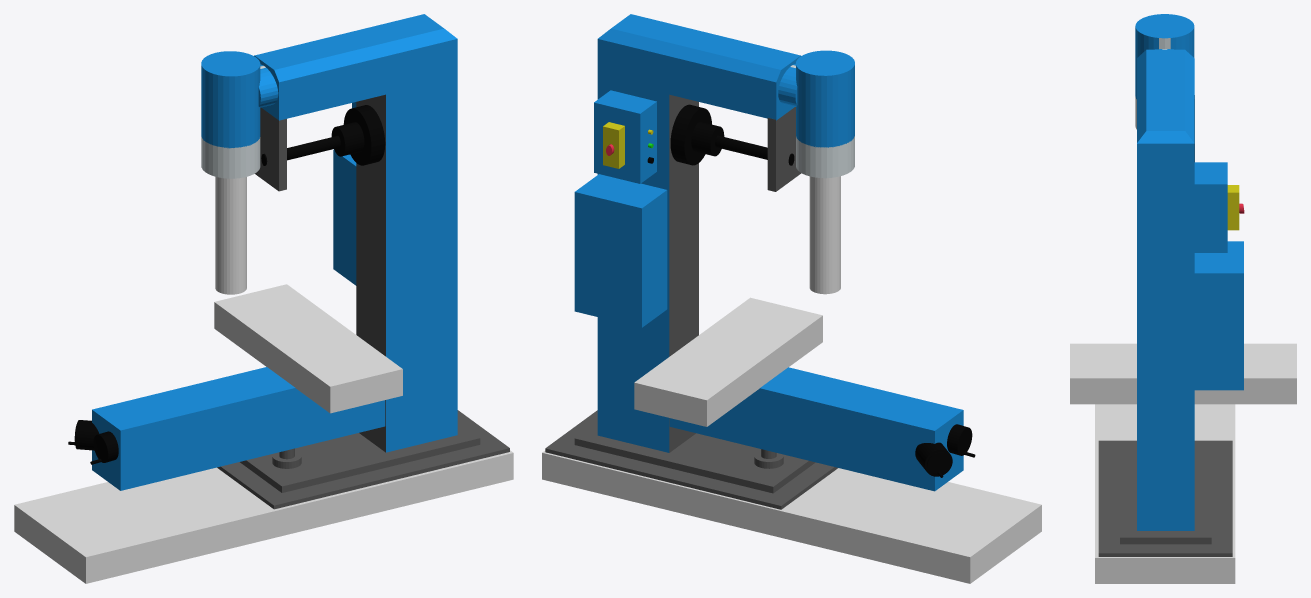
3 views of the same model, side by side, from view 1: azimuth 30°, elevation 25°; view 2: azimuth 150°, elevation 25°; view 3: azimuth 270°, elevation 25° (orthographic). The views are drawn at different scales.
Parts seen in each view (by area): view 1: Cube, Куб.001, Куб, Цилиндр; view 2: Cube, Куб.001, Куб, Цилиндр; view 3: Cube, Куб, Куб.001.
Boxes of the visible parts, left/top/right/bottom form: Cube: left=68, top=14, right=509, bottom=509; Куб.001: left=14, top=450, right=513, bottom=583; Куб: left=214, top=284, right=402, bottom=413; Цилиндр: left=215, top=176, right=246, bottom=294; Cube: left=545, top=14, right=975, bottom=509; Куб.001: left=542, top=450, right=1041, bottom=583; Куб: left=634, top=297, right=822, bottom=426; Цилиндр: left=809, top=176, right=840, bottom=294; Cube: left=1098, top=14, right=1244, bottom=556; Куб: left=1070, top=343, right=1296, bottom=404; Куб.001: left=1095, top=404, right=1235, bottom=583.
Bounding box in the file's own units: 3352 × 3368 × 1573.
